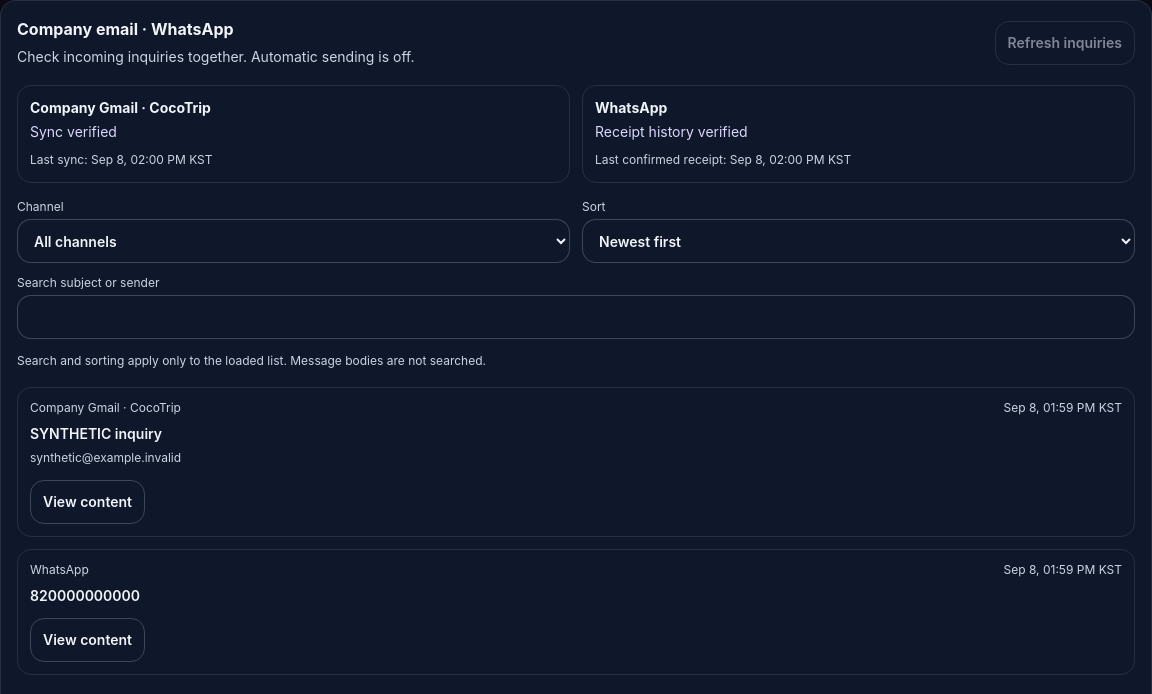
Test: company inbox read-only interaction › isolates en preview from all authenticated/live fetches
Expected: the heading "Company email · WhatsApp" is shown, [17, 19, 234, 39]
Step 1. Click the button "View content" below "SYNTHETIC inquiry" → (88, 502), box [30, 480, 145, 524]
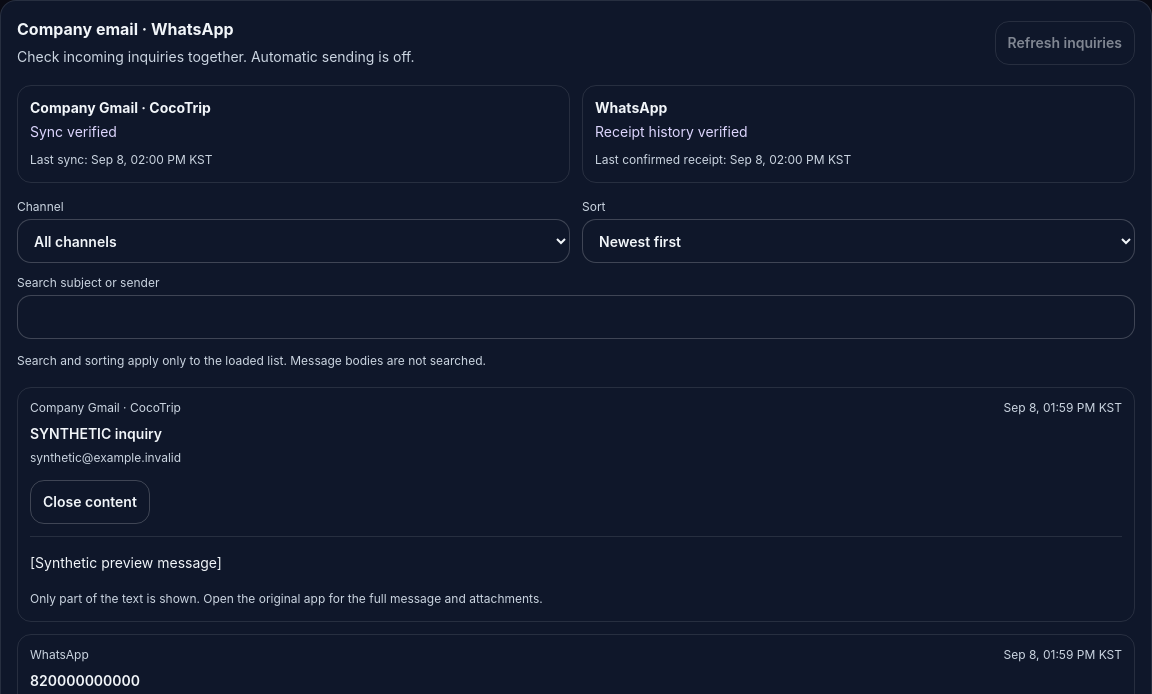
Expected: the text "[Synthetic preview message]" is shown, [30, 554, 222, 571]
